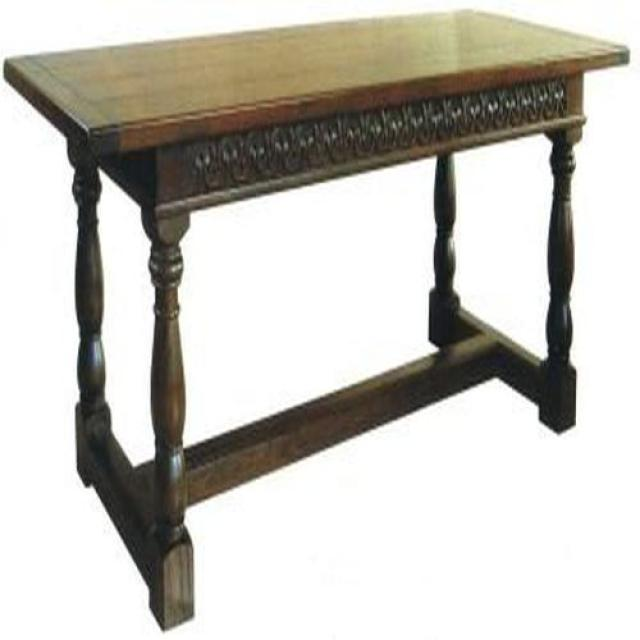table: (6, 9, 631, 625)
